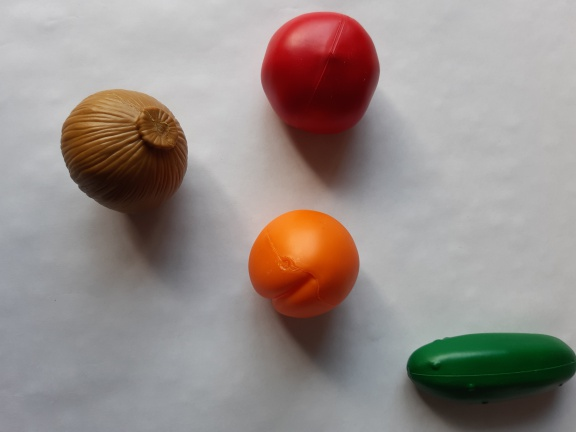apricot: (240, 207, 367, 323)
cucumber: (404, 326, 576, 408)
onion: (54, 86, 197, 221)
tomato: (254, 7, 385, 140)
